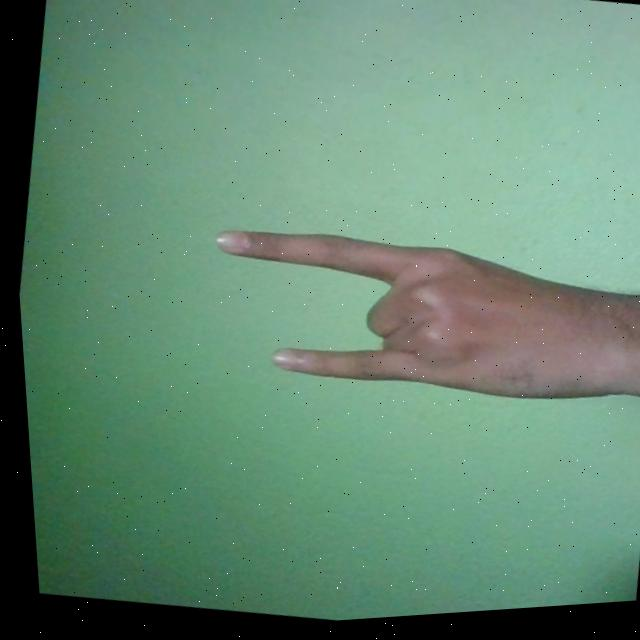Rock On: (189, 202, 640, 443)
